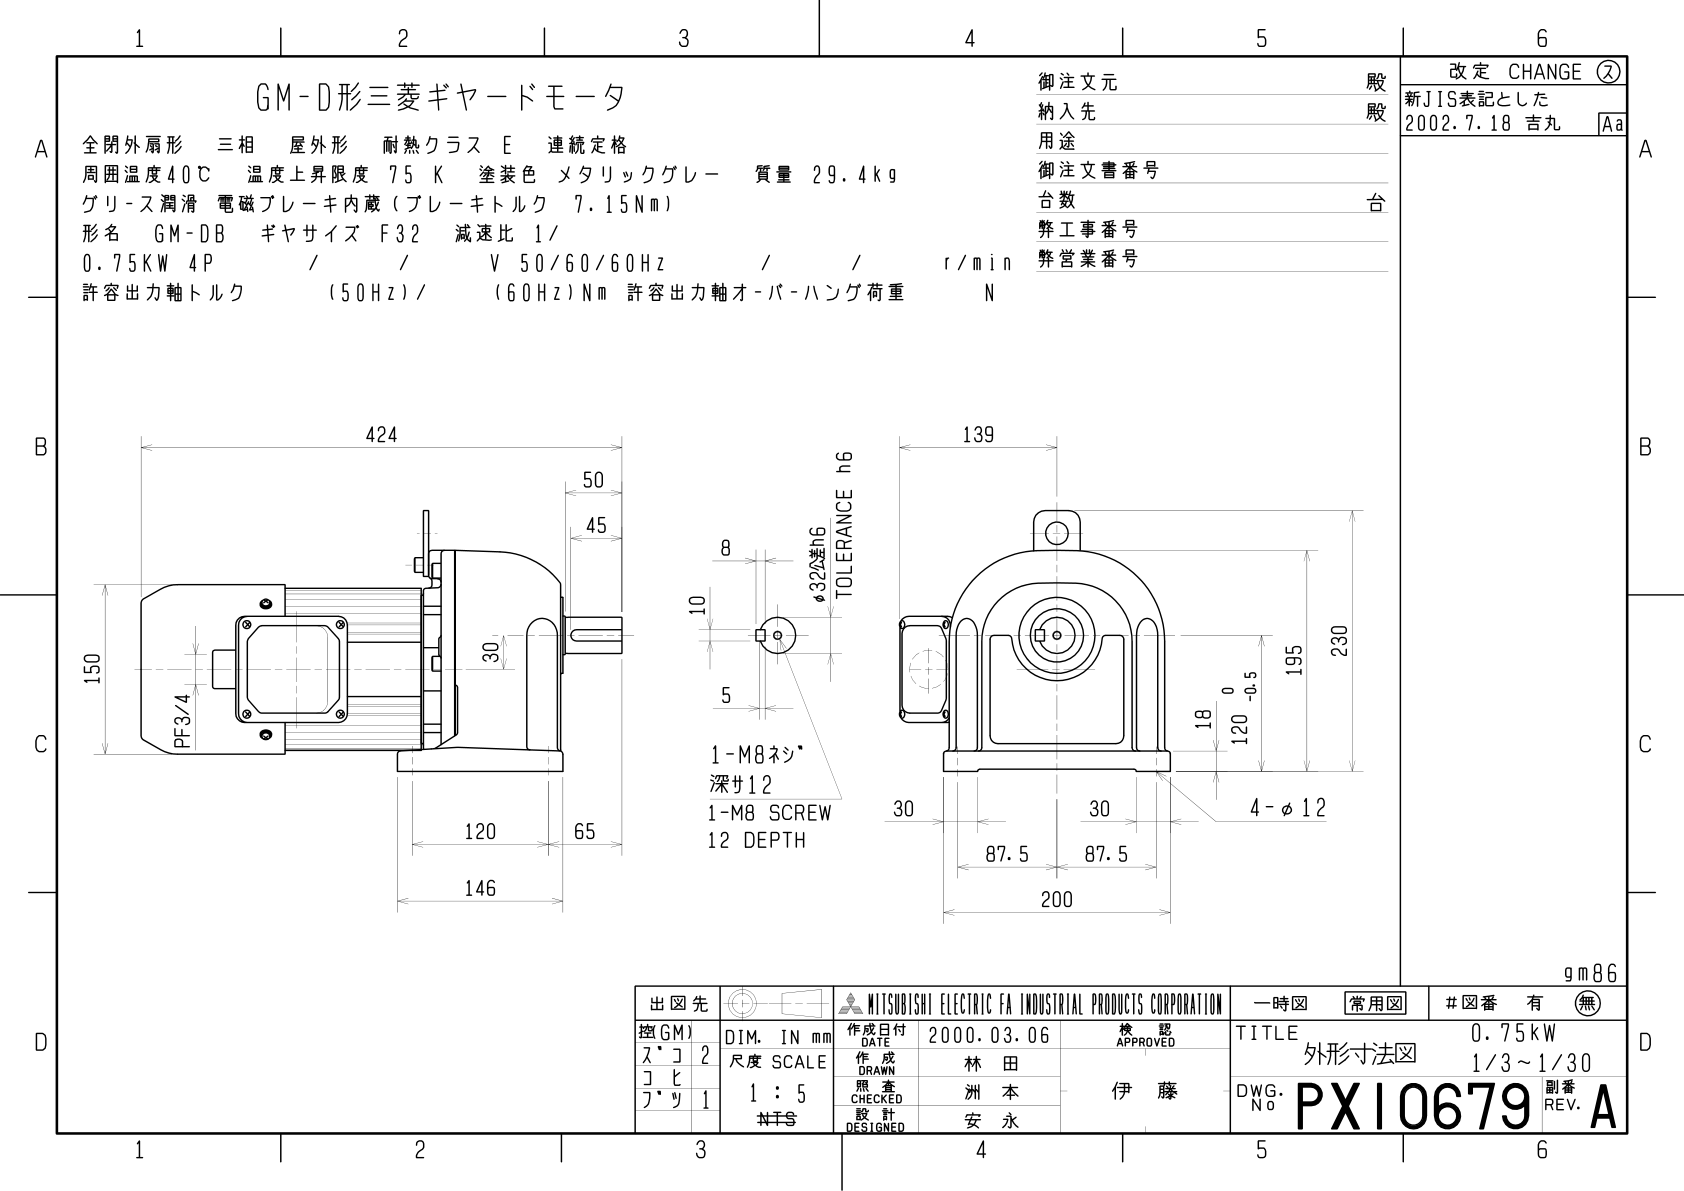GM_D_屋外＿三相_脚: (73, 363, 1381, 949)
